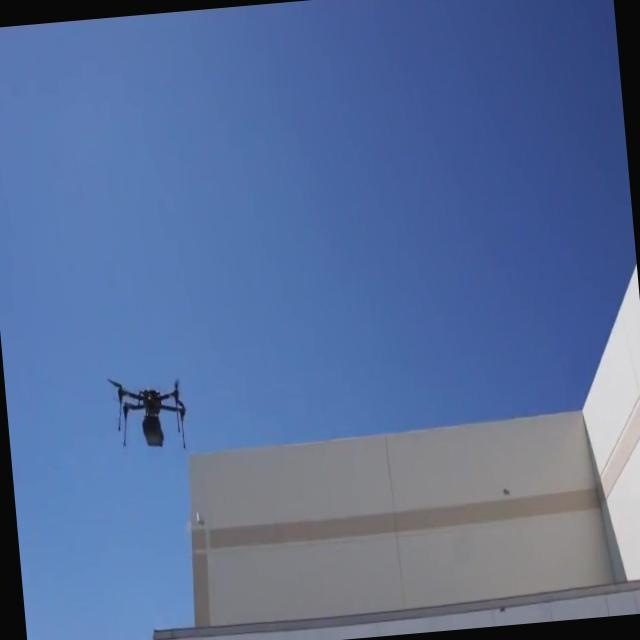drone: (102, 369, 191, 455)
